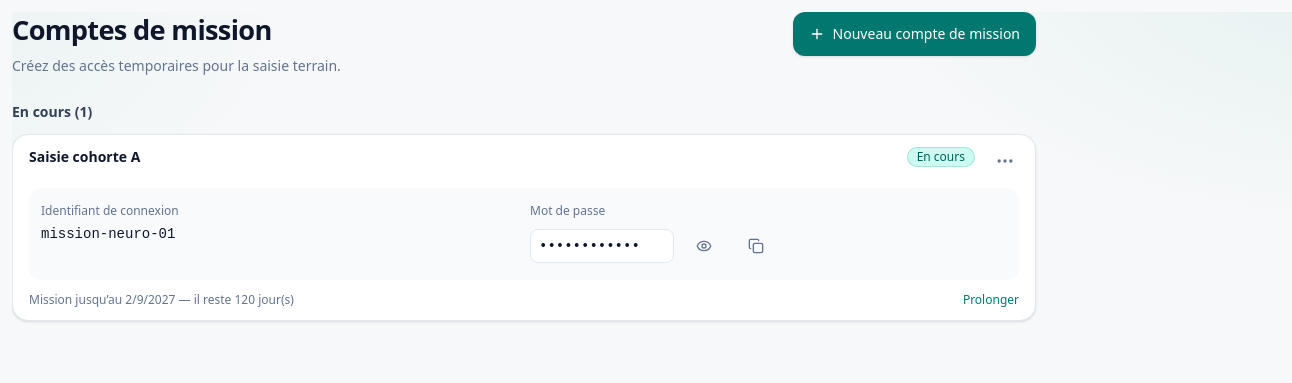
Test: cycle de vie › la regeneration exige confirmation, conserve l identifiant et affiche le nouveau secret
Expected: the button "Régénérer le mot de passe" is not shown
Click the button named "Actions · Saisie cohorte A": [1005, 161] box [983, 139, 1027, 183]
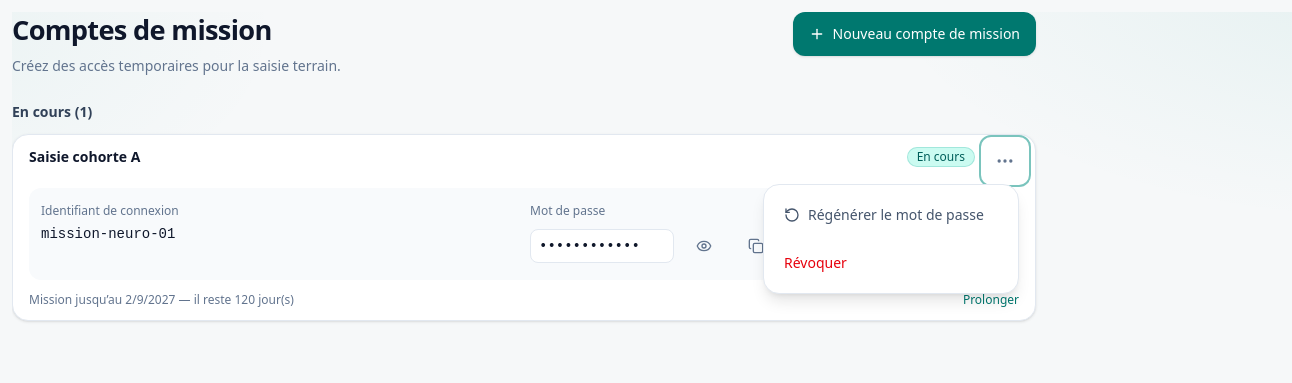
Click the button "Régénérer le mot de passe": [891, 215] box [772, 193, 1010, 237]
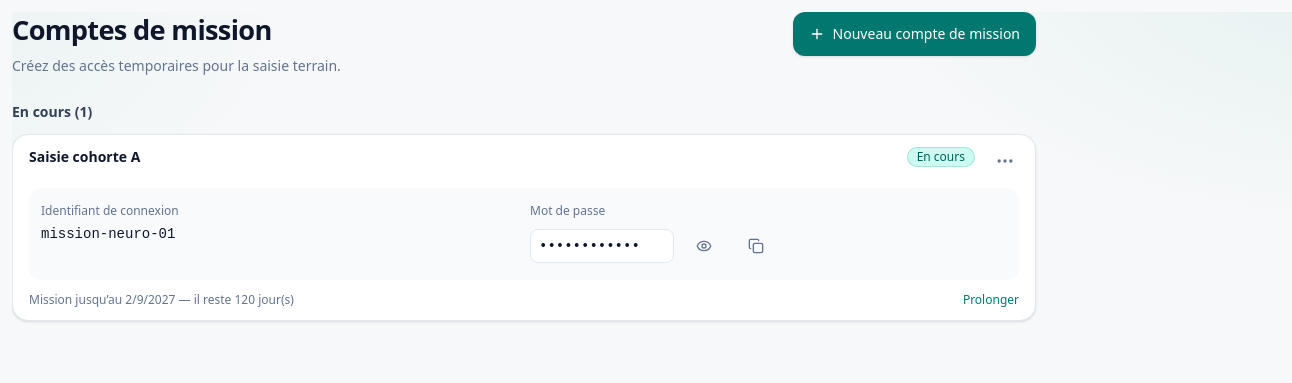
Click the button named "Actions · Saisie cohorte A": [1005, 161] box [983, 139, 1027, 183]
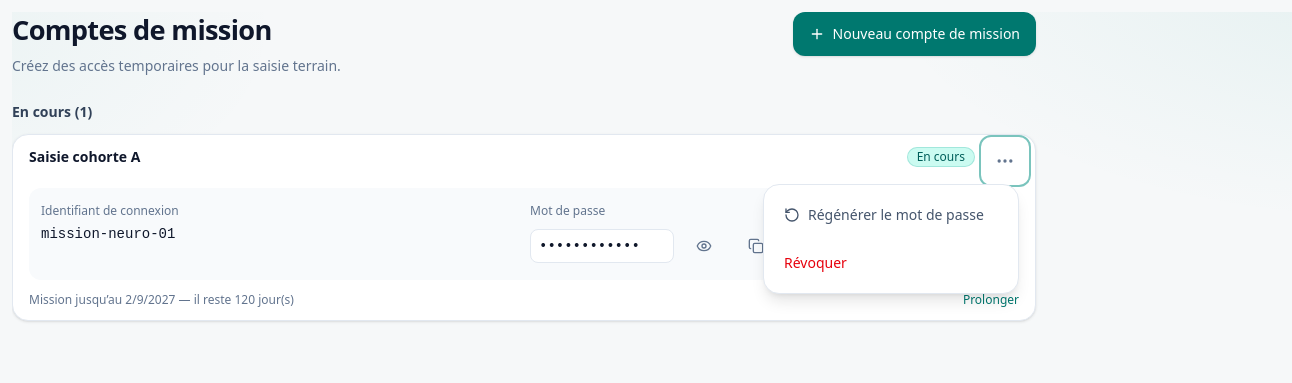
Click the button "Régénérer le mot de passe": [891, 215] box [772, 193, 1010, 237]
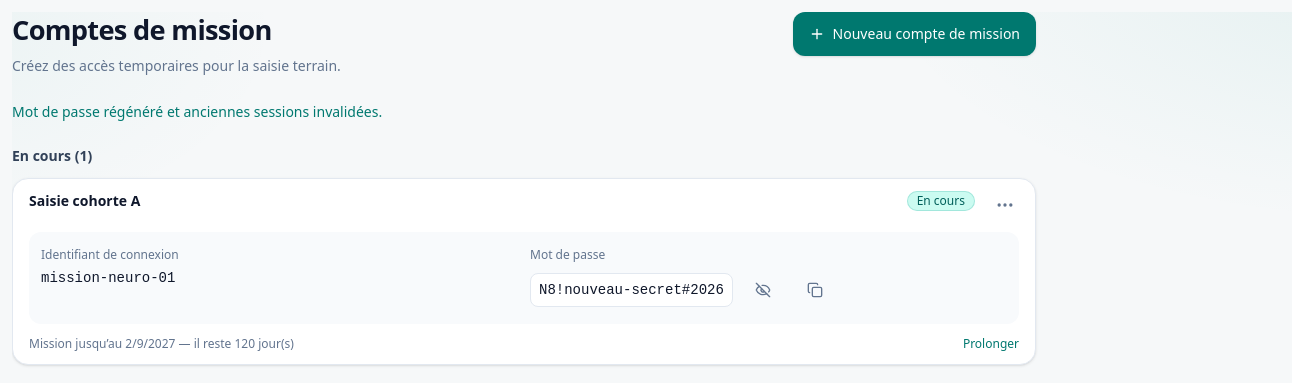
Result: the text "N8!nouveau-secret#2026" is shown at [530, 273, 733, 307]
